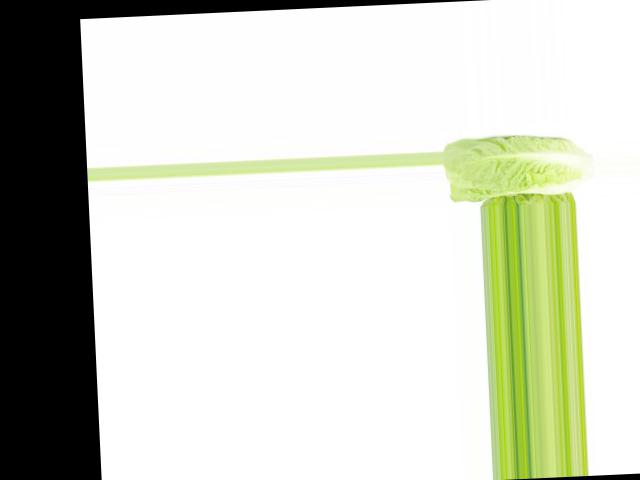lettuce: (440, 121, 594, 200)
